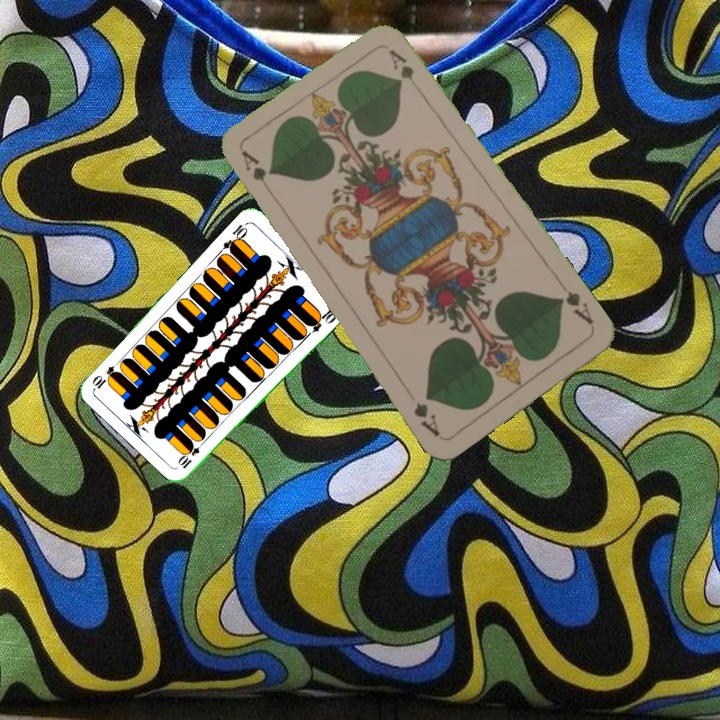E10: (219, 218, 250, 255), (175, 436, 207, 471)
GA: (237, 147, 277, 200), (553, 287, 596, 328)
